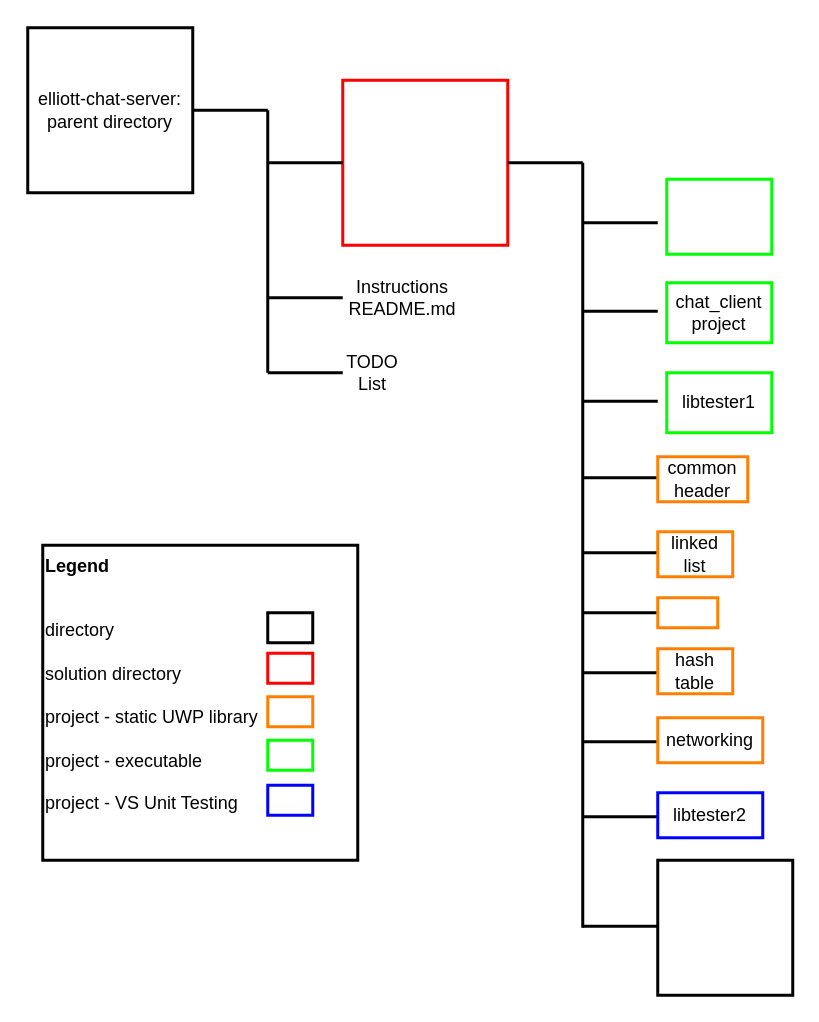
This 819x1022 diagram has some shape labels left out. Here are the shapes that lost their labels. From the top down, the centre of each, then its label:
the point at 424,162: chat_server
the point at 718,216: chat_server project
the point at 687,612: queue
the point at 725,927: README folder: draw.io diagrams and screenshots
